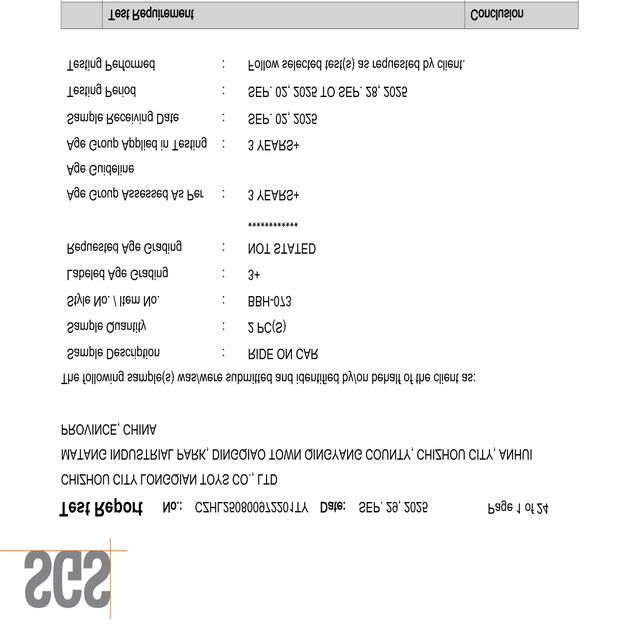sgs: (24, 550, 112, 608)
